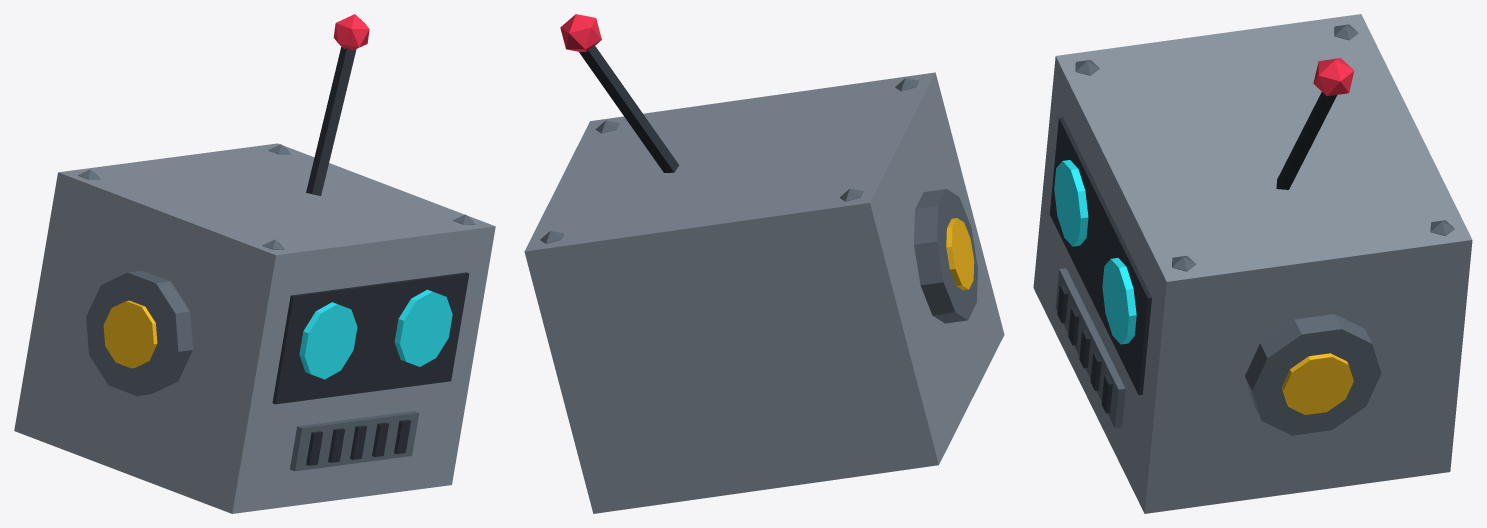
The model's file is BrokenRobotHead.fbx.
The picture shows the model from 3 angles, left to right: view 1: azimuth 30°, elevation 25°; view 2: azimuth 150°, elevation 25°; view 3: azimuth 270°, elevation 25°; orthographic projection. The views are drawn at different scales.
Visible parts, largest first — view 1: BrokenRobotHead, BrokenRobotHead_Glow; view 2: BrokenRobotHead, BrokenRobotHead_Glow; view 3: BrokenRobotHead, BrokenRobotHead_Glow.
Part boxes in pixels (x1,y1,x2,y2): BrokenRobotHead: (14,46,495,513); BrokenRobotHead_Glow: (299,14,452,379); BrokenRobotHead: (524,46,1004,513); BrokenRobotHead_Glow: (560,14,601,52); BrokenRobotHead: (1033,14,1472,513); BrokenRobotHead_Glow: (1054,58,1354,344).
Size of the model in its own units: 412 by 401 by 355.
Materials: 1 (1 with a texture image).
